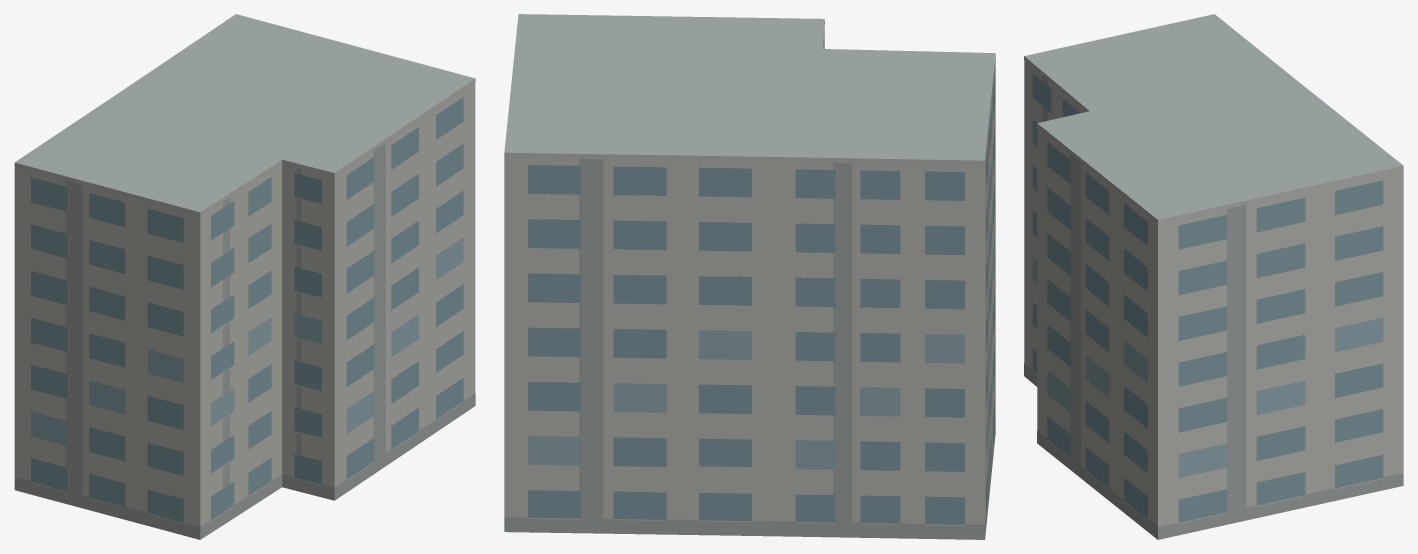
The model's file is survey-upis-32836063.glb.
The picture shows the model from 3 angles, left to right: view 1: azimuth 30°, elevation 25°; view 2: azimuth 150°, elevation 25°; view 3: azimuth 270°, elevation 25°; orthographic projection. The views are drawn at different scales.
Visible parts, largest first — view 1: survey-upis-32836063.tmp; view 2: survey-upis-32836063.tmp; view 3: survey-upis-32836063.tmp.
Boxes of the visible parts, x1,y1,x2,y2 form: survey-upis-32836063.tmp: [14, 14, 475, 539]; survey-upis-32836063.tmp: [504, 14, 995, 539]; survey-upis-32836063.tmp: [1024, 14, 1403, 539].
Size of the model in its own units: 26.9 by 19.49 by 20.96.
